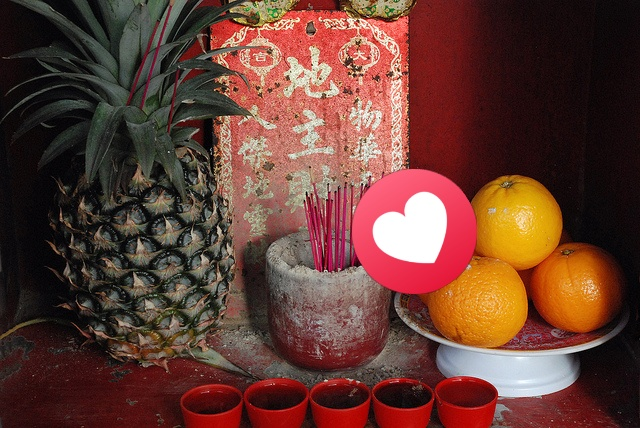love: (352, 169, 477, 294)
